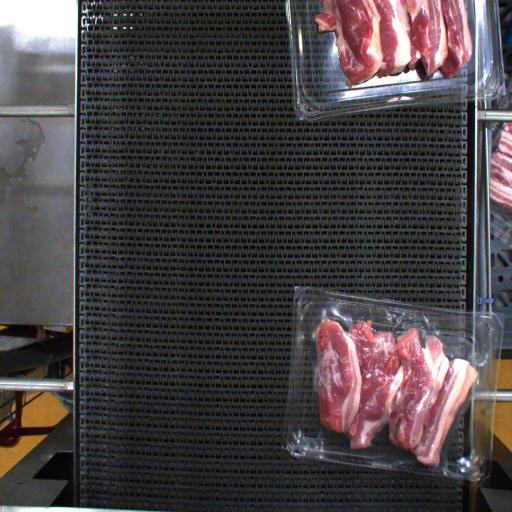unsealed: (298, 295, 496, 436)
